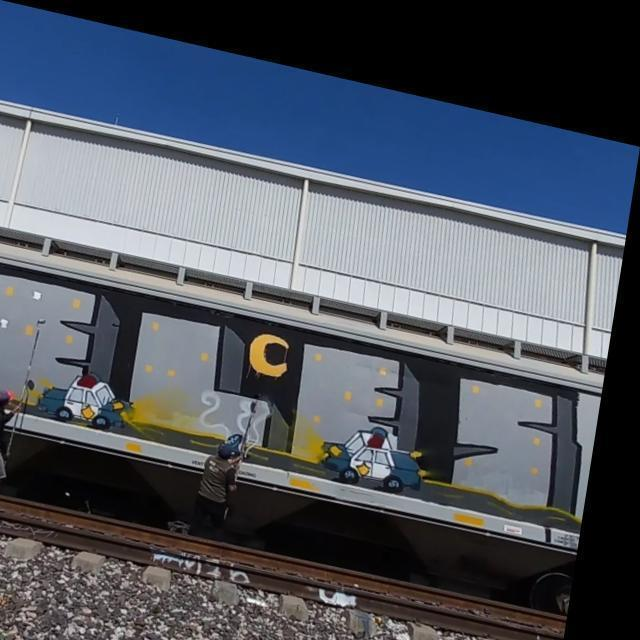nonspitting: (0, 266, 600, 522)
